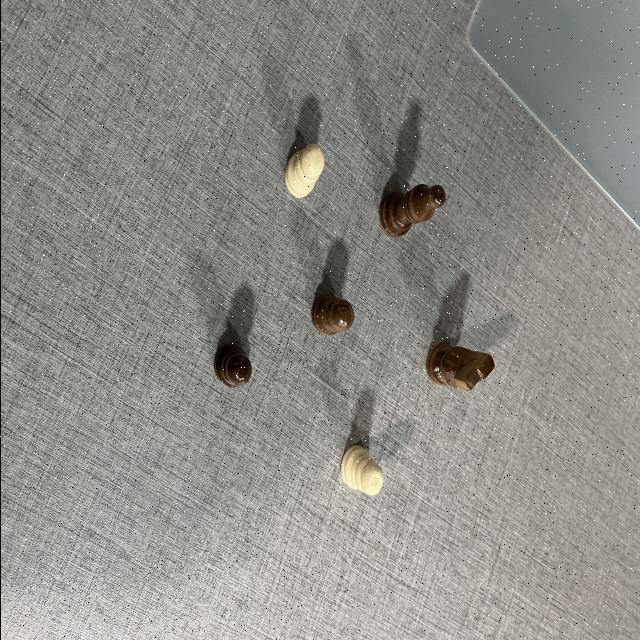Black-Bishop: (378, 183, 446, 239)
Black-Knight: (424, 344, 496, 392)
Black-Pawn: (310, 293, 354, 337), (212, 342, 251, 390)
White-Pawn: (339, 444, 384, 497), (283, 142, 325, 198)
